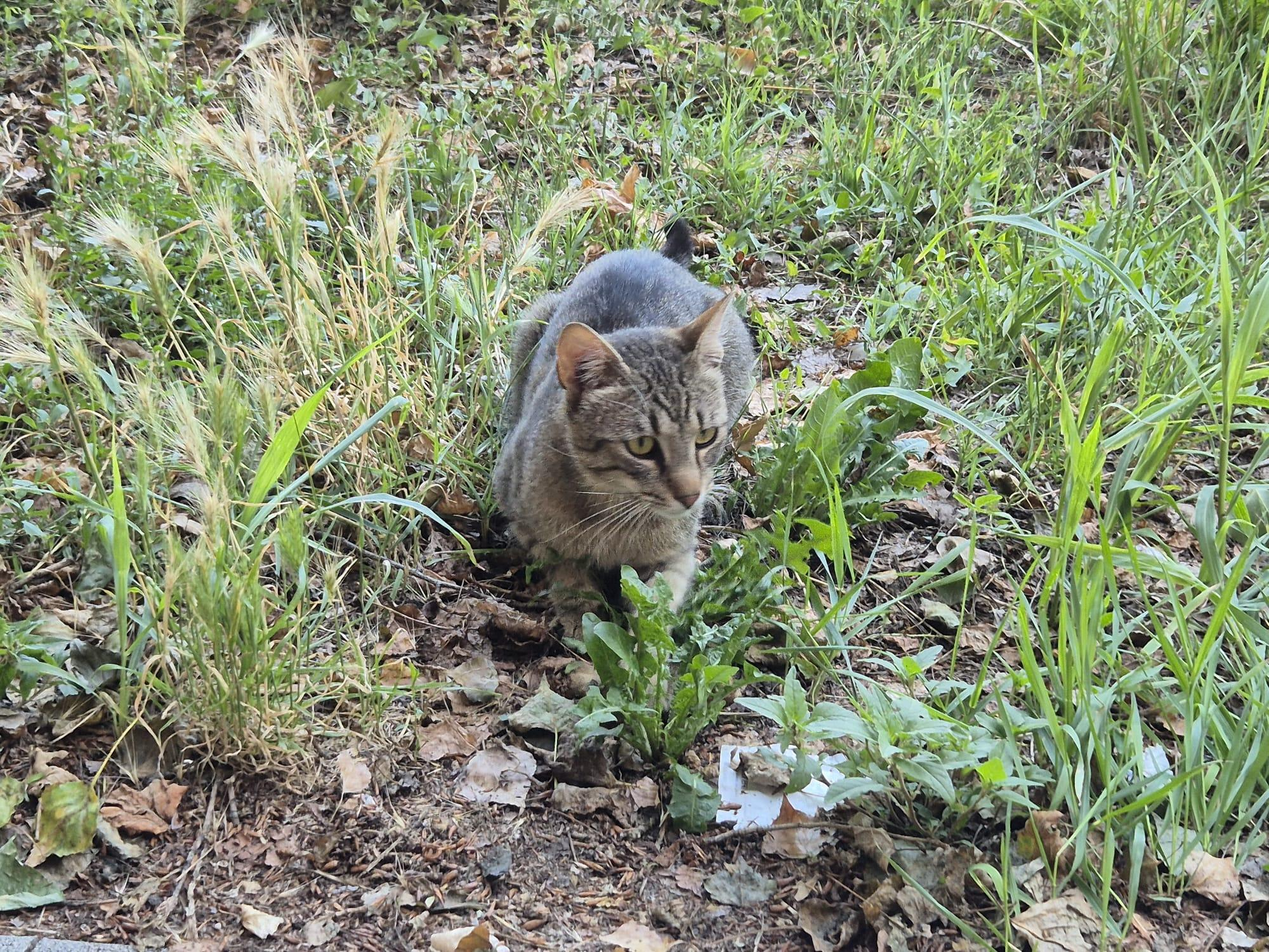macka: (491, 218, 759, 653)
